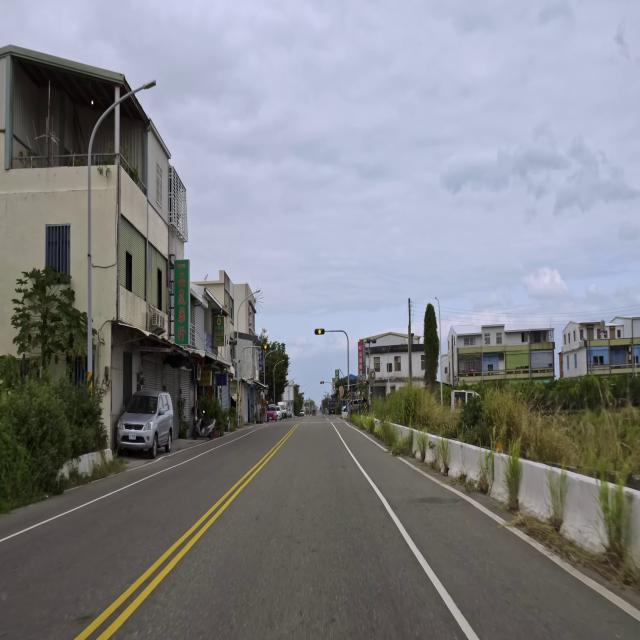yellow light: (261, 343, 270, 350), (314, 329, 324, 334)
